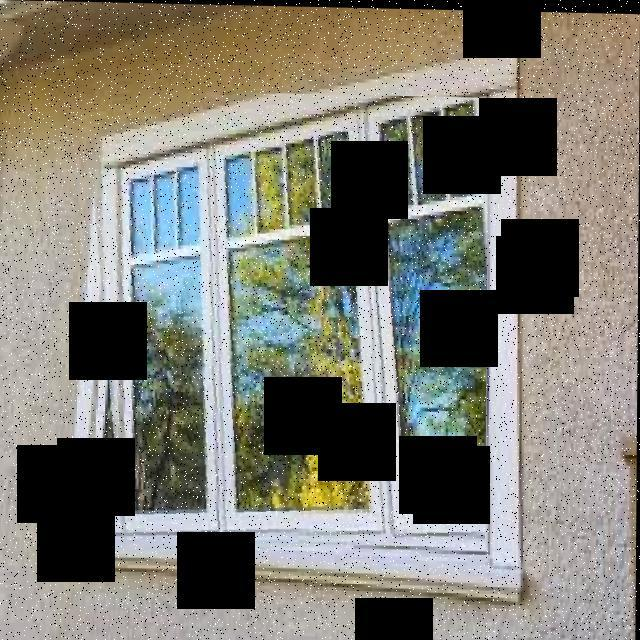Window: (115, 95, 488, 543)
